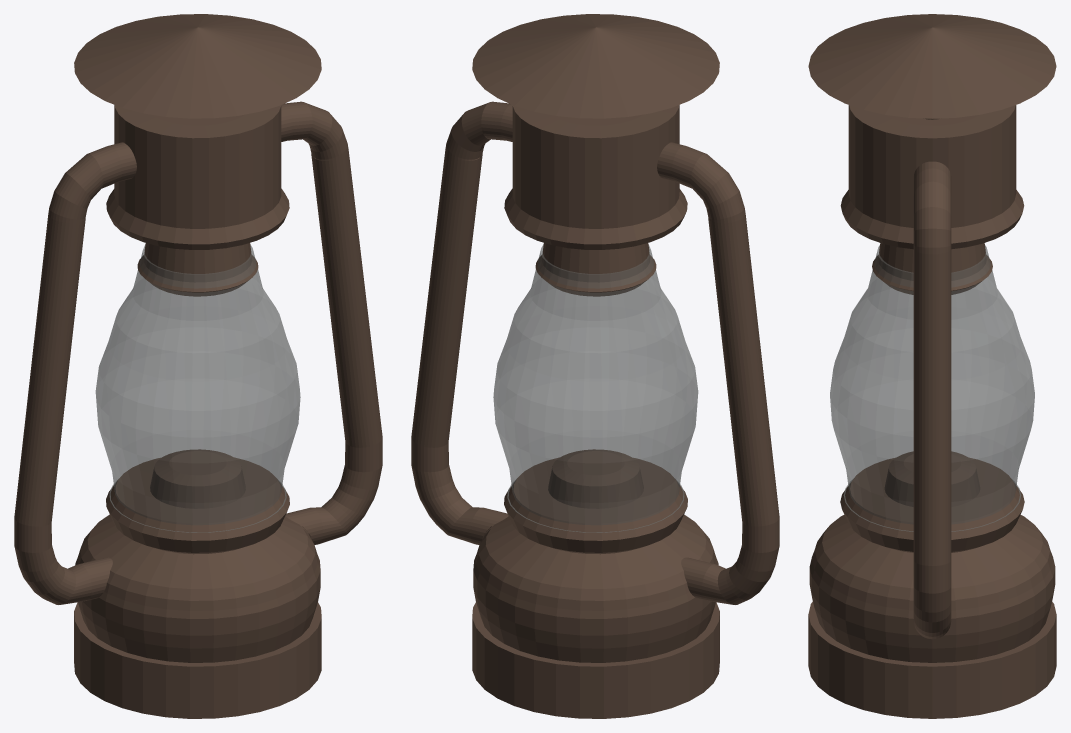
The model's file is lampe.fbx.
The picture shows the model from 3 angles, left to right: view 1: azimuth 30°, elevation 25°; view 2: azimuth 150°, elevation 25°; view 3: azimuth 270°, elevation 25°; orthographic projection.
Parts seen in each view (by area): view 1: Cylinder, Cylinder.001; view 2: Cylinder, Cylinder.001; view 3: Cylinder, Cylinder.001.
Part boxes in pixels (bbox=[...]): Cylinder: bbox=[14, 14, 382, 718]; Cylinder.001: bbox=[95, 244, 300, 532]; Cylinder: bbox=[411, 14, 779, 718]; Cylinder.001: bbox=[493, 244, 698, 532]; Cylinder: bbox=[808, 14, 1056, 718]; Cylinder.001: bbox=[830, 245, 1034, 531].
Size of the model in its own units: 338 by 568 by 200.
